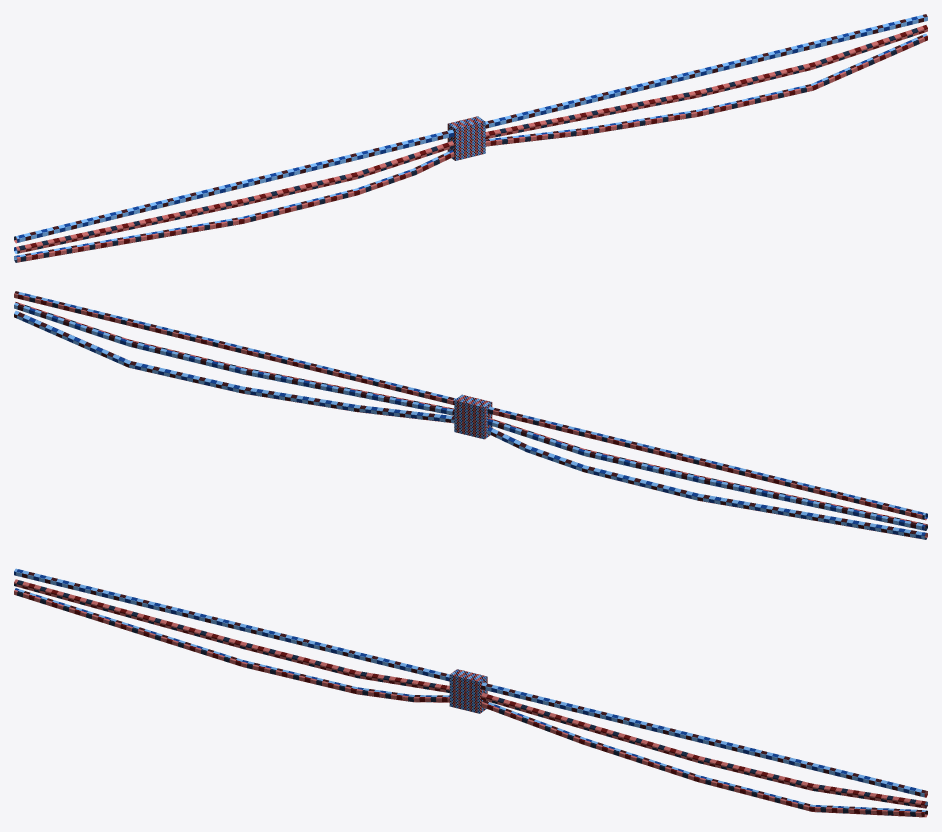
Rendered from Wire_cluster_02.fbx.
The picture shows the model from 3 angles, top to bottom: view 1: azimuth 30°, elevation 25°; view 2: azimuth 150°, elevation 25°; view 3: azimuth 330°, elevation 25°; orthographic projection.
Visible parts, largest first — view 1: wire_smallCluster_05; view 2: wire_smallCluster_05; view 3: wire_smallCluster_05.
Boxes of the visible parts, <box> form: wire_smallCluster_05: <box>14,14,927,262</box>; wire_smallCluster_05: <box>14,291,927,539</box>; wire_smallCluster_05: <box>14,568,927,817</box>.
Bounding box in the file's own units: 500 × 27.1 × 7.33.
Materials: 1 (1 with a texture image).
